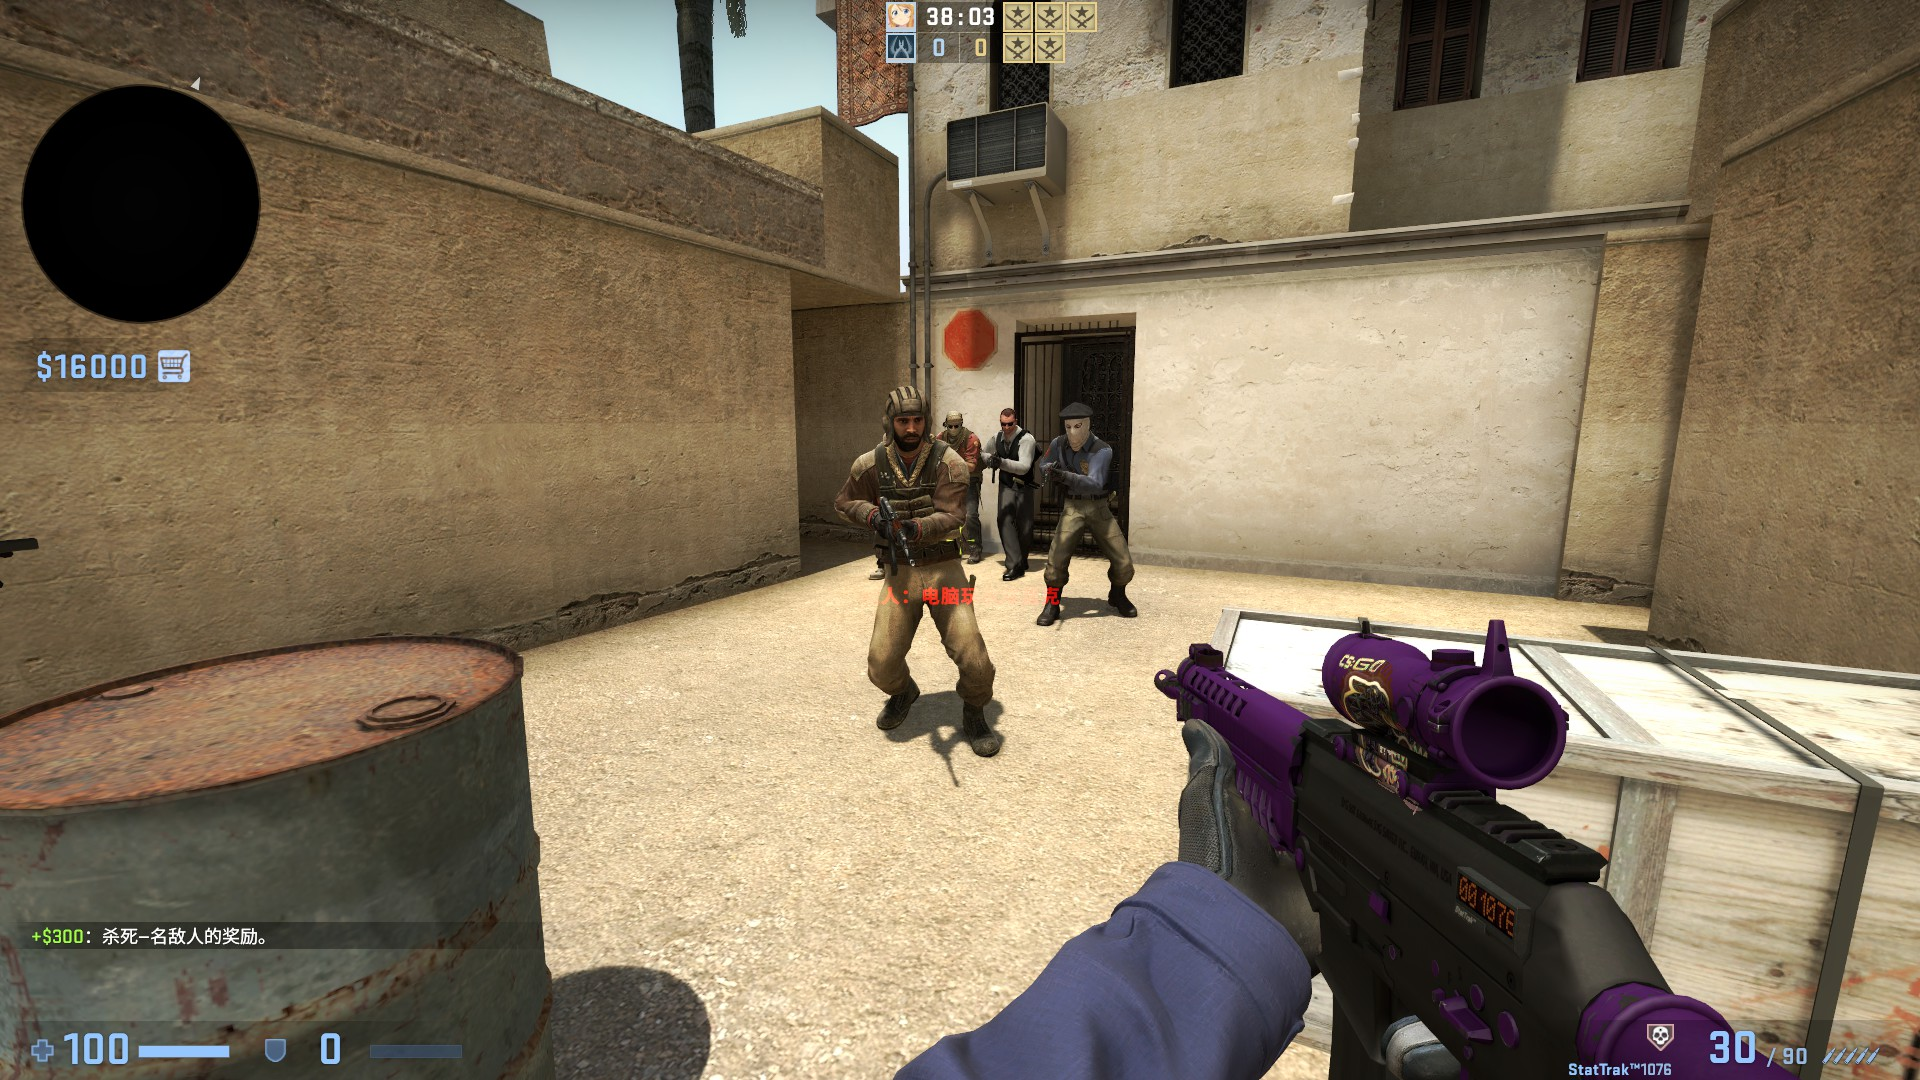head: (882, 382, 929, 447), (1057, 399, 1093, 448), (942, 410, 963, 435), (998, 408, 1015, 434)
